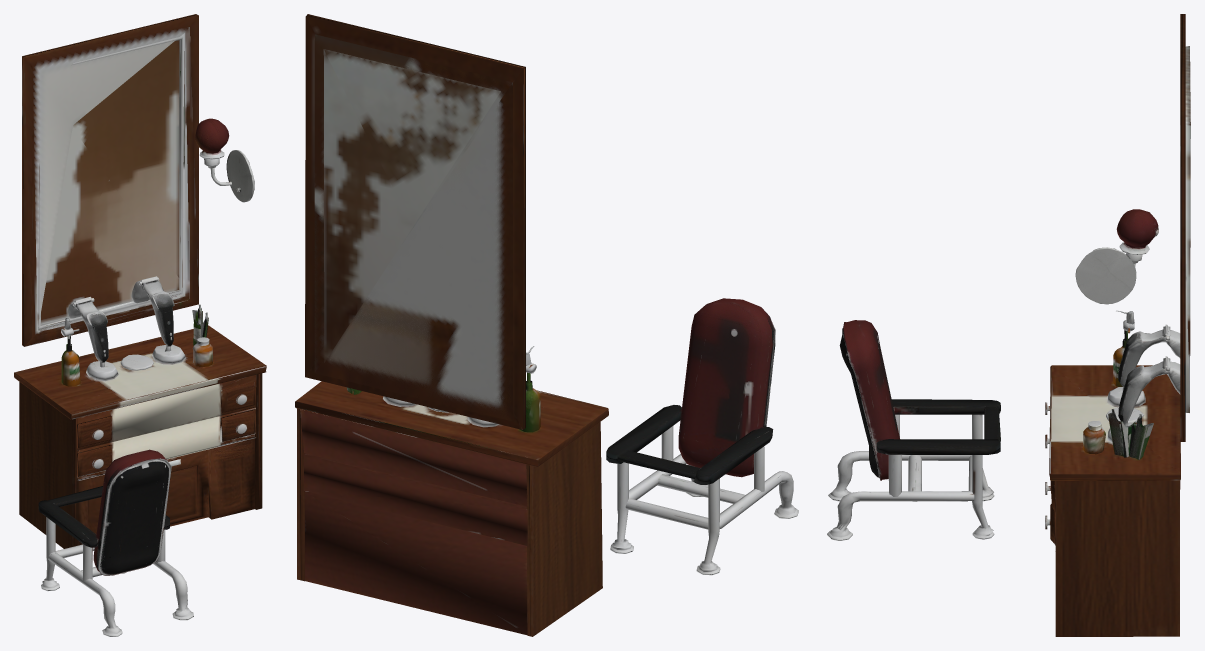
File: interior-barber-vanity.glb
The picture shows the model from 3 angles, left to right: view 1: azimuth 30°, elevation 25°; view 2: azimuth 150°, elevation 25°; view 3: azimuth 270°, elevation 25°; orthographic projection. The views are drawn at different scales.
Size of the model in its own units: 0.5591 by 0.9531 by 0.6035.
Materials: 1 (1 with a texture image).
